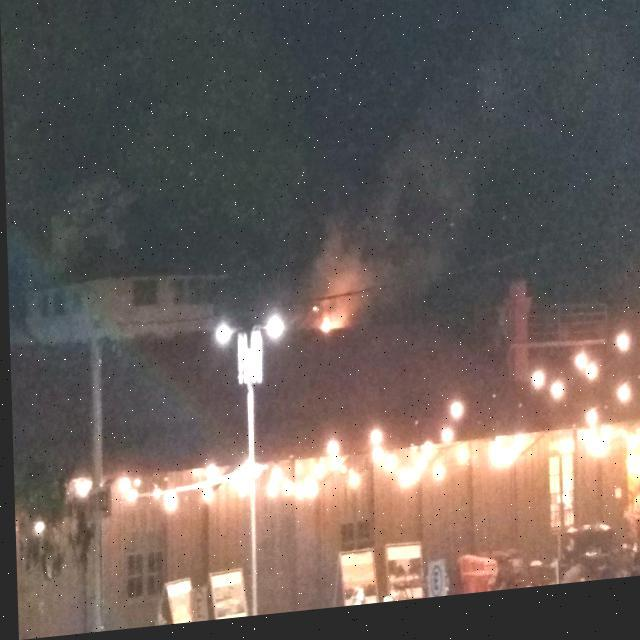Fire: (314, 322, 332, 342)
